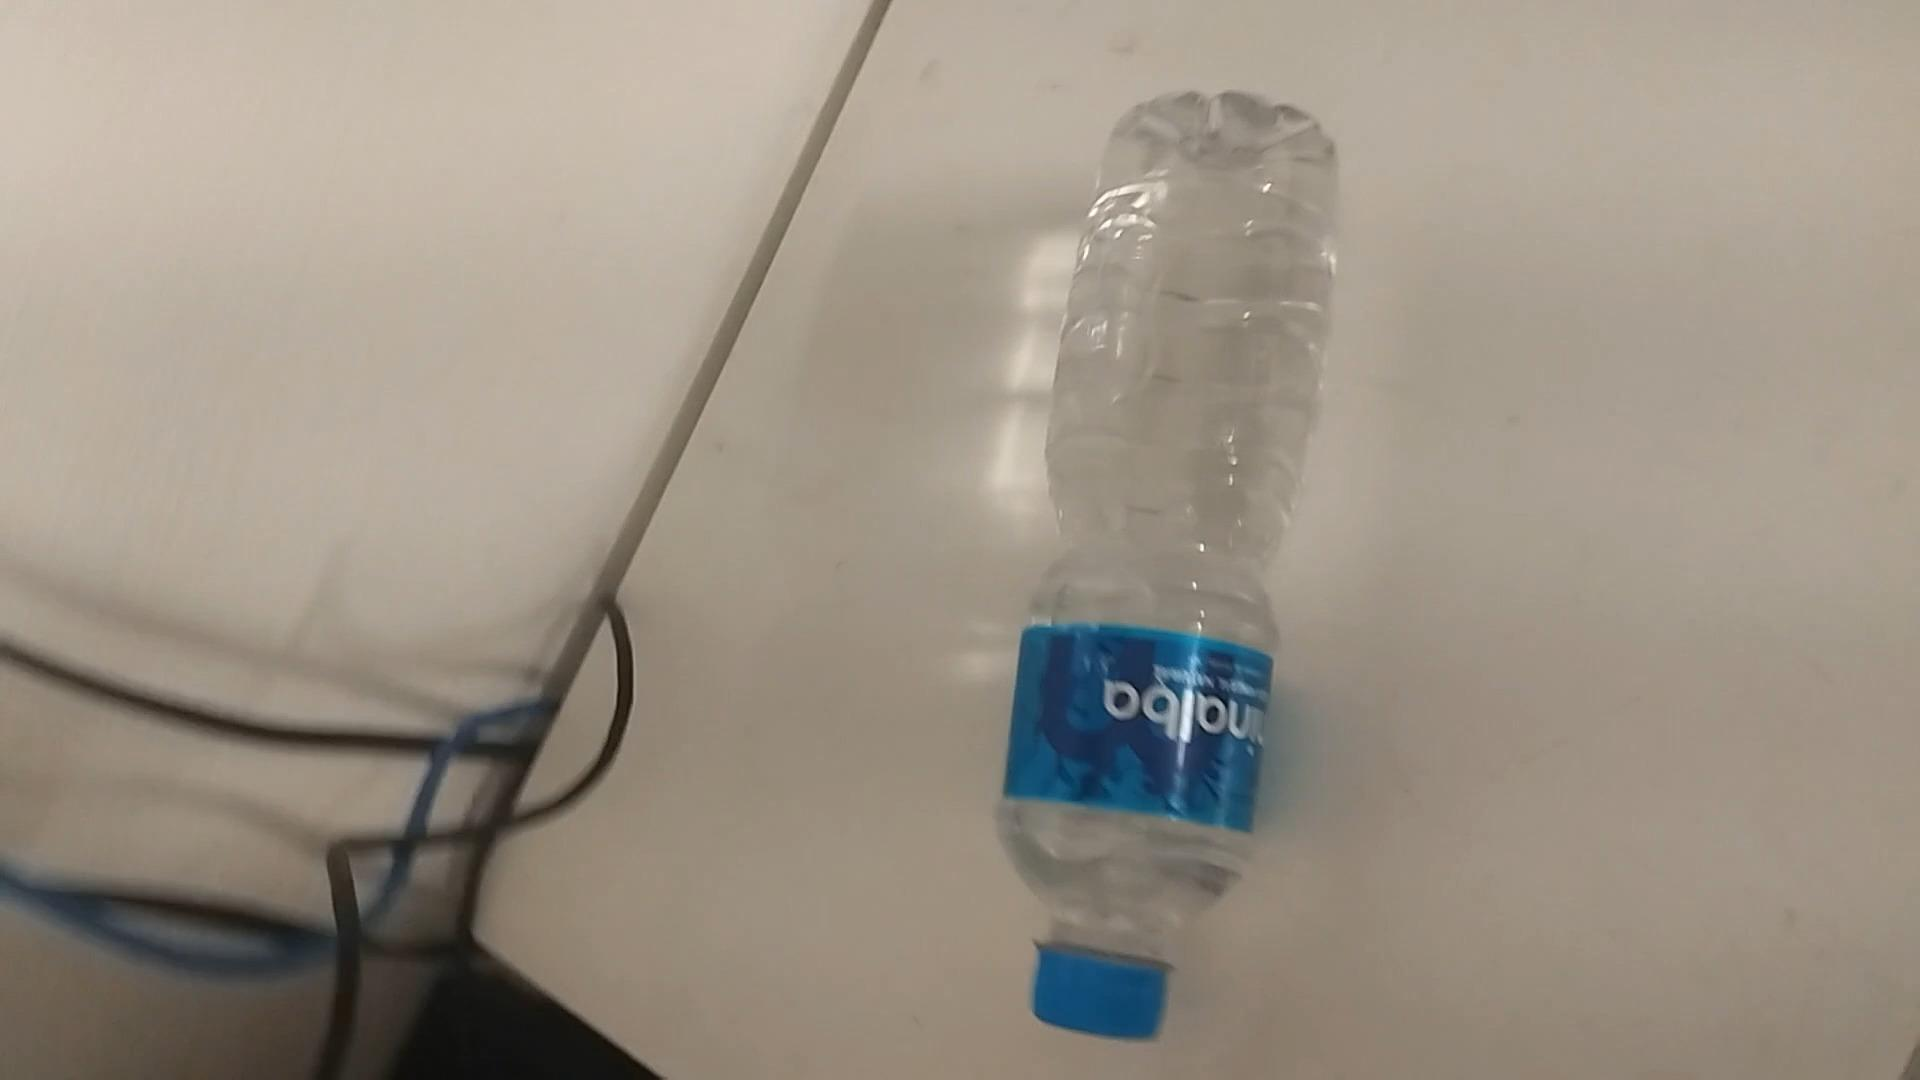agua: (1009, 98, 1333, 1044)
